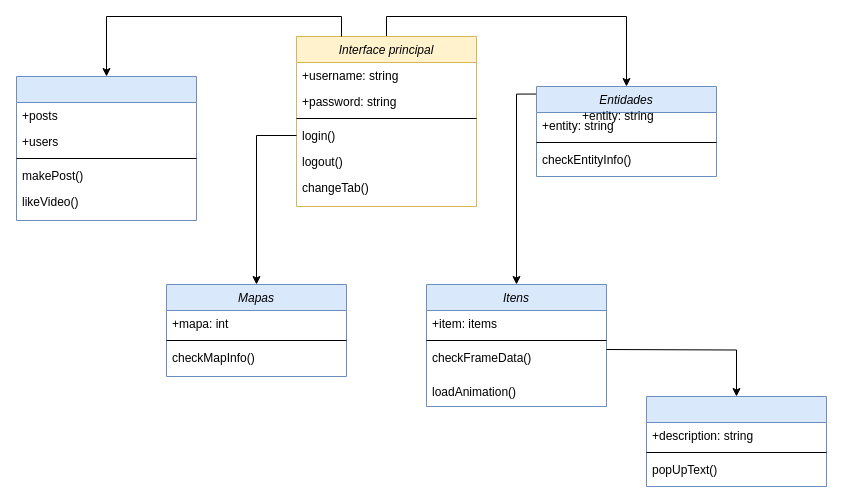
Some shapes in this 843 by 503 pixel diagram are drawn without their labels. Here are the shapes that lost their labels. From the top down, the box of each, then its label:
(16, 76, 196, 220): Comunidade
(646, 396, 826, 486): Sobre Nós
